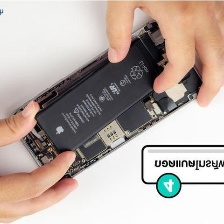phone: (5, 14, 209, 188)
